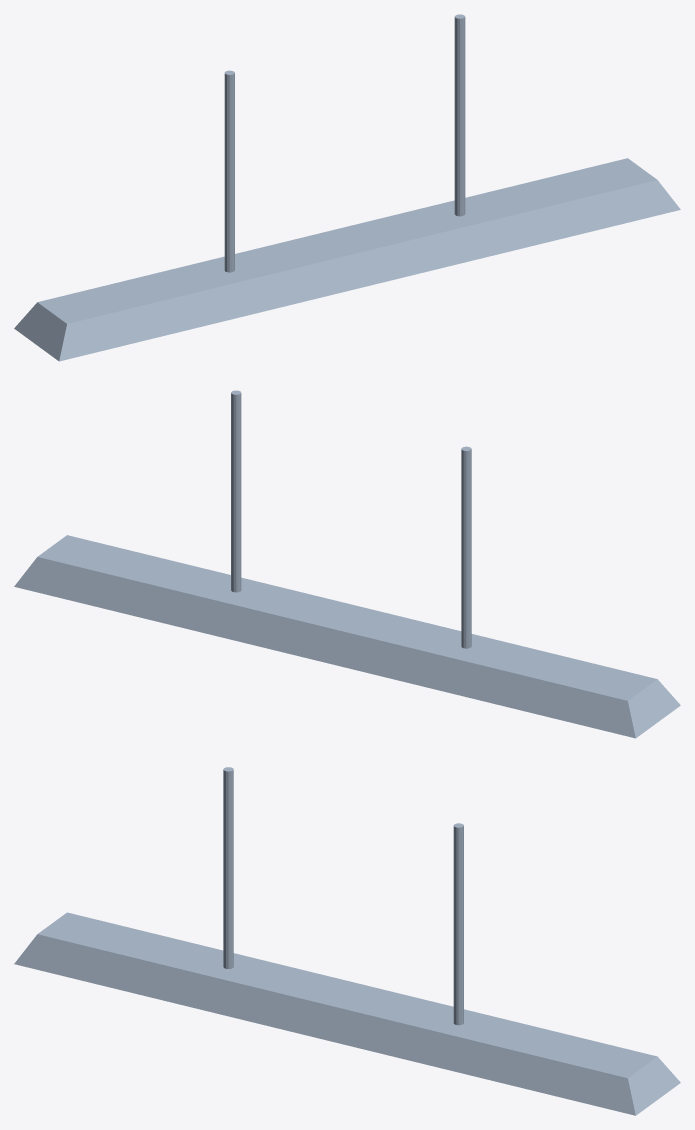
The model's file is Lamp.fbx.
3 views of the same model, one above another, from view 1: azimuth 30°, elevation 25°; view 2: azimuth 150°, elevation 25°; view 3: azimuth 330°, elevation 25° (orthographic).
Parts seen in each view (by area): view 1: Lamp; view 2: Lamp; view 3: Lamp.
Boxes of the visible parts, <box> form: Lamp: <box>14,14,680,361</box>; Lamp: <box>14,390,680,738</box>; Lamp: <box>14,767,680,1115</box>.
Size of the model in its own units: 501 by 174 by 63.
